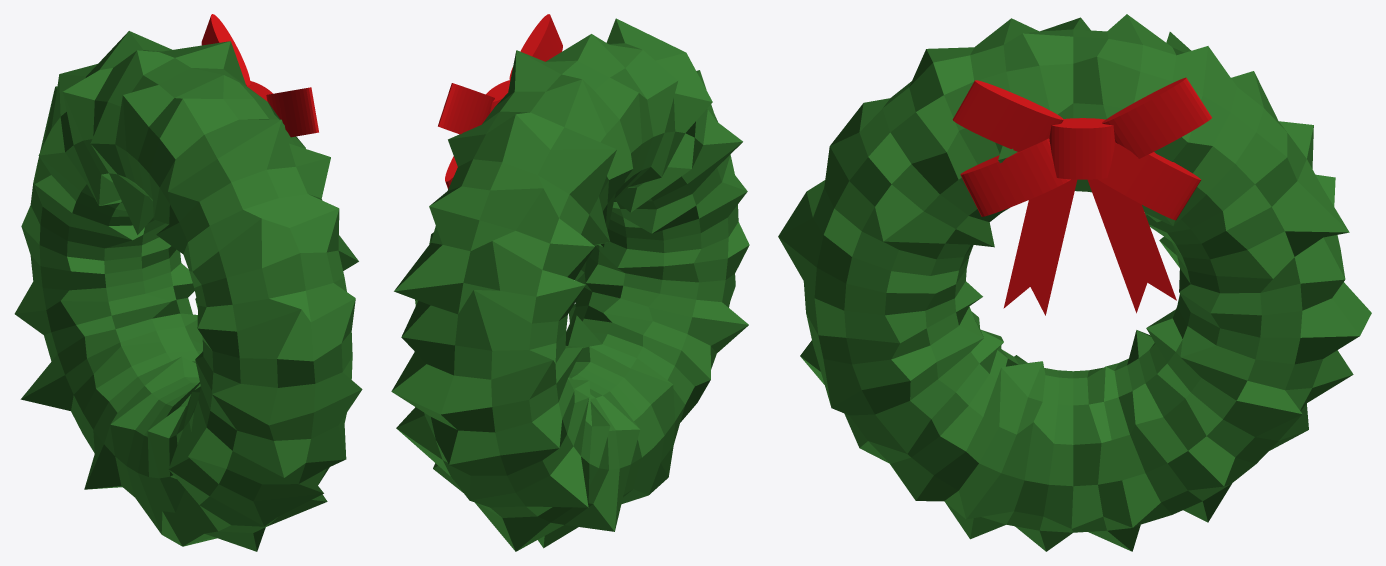
File: wreath.fbx
The picture shows the model from 3 angles, left to right: view 1: azimuth 30°, elevation 25°; view 2: azimuth 150°, elevation 25°; view 3: azimuth 270°, elevation 25°; orthographic projection. The views are drawn at different scales.
Visible parts, largest first — view 1: Torus, Cylinder; view 2: Torus, Cylinder; view 3: Torus, Cylinder.
Boxes of the visible parts, x1=… form: Torus: x1=14, y1=31, x2=362, y2=551; Cylinder: x1=201, y1=14, x2=318, y2=137; Torus: x1=391, y1=18, x2=749, y2=551; Cylinder: x1=438, y1=14, x2=562, y2=189; Torus: x1=778, y1=14, x2=1371, y2=551; Cylinder: x1=952, y1=77, x2=1211, y2=315.
Bounding box in the file's own units: 115 × 304 × 315.
